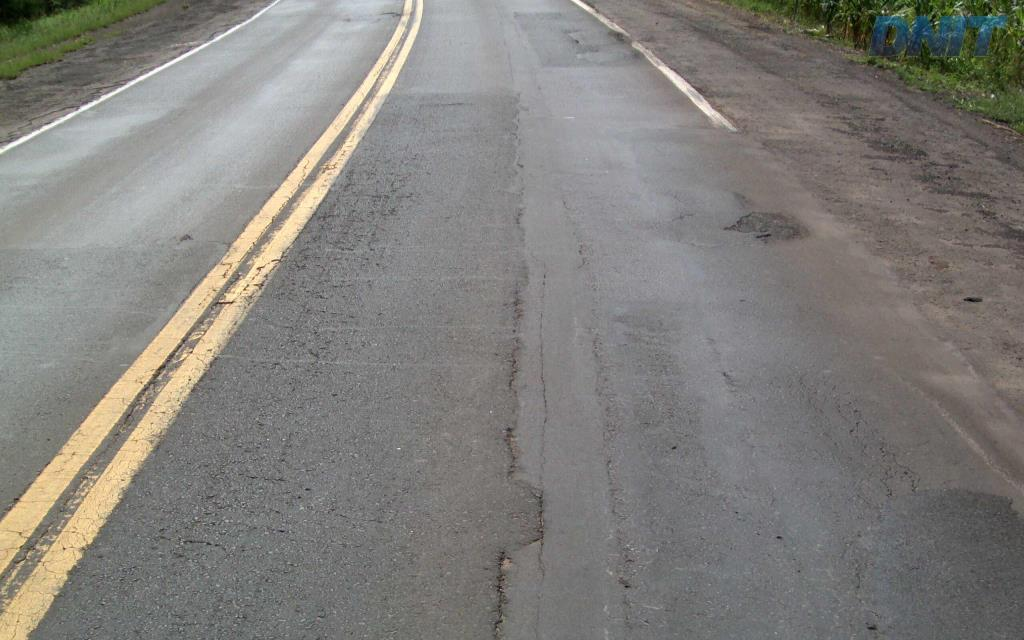crack: (514, 489, 547, 553), (490, 546, 512, 629)
